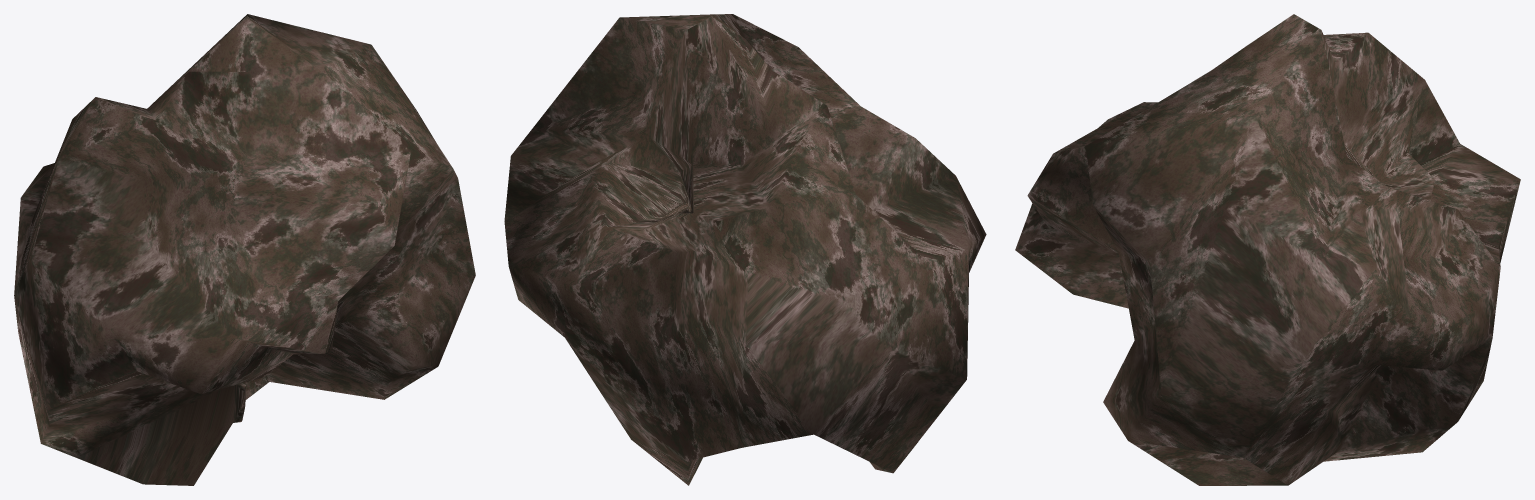
The model's file is asteroid2.obj.
The picture shows the model from 3 angles, left to right: view 1: azimuth 30°, elevation 25°; view 2: azimuth 150°, elevation 25°; view 3: azimuth 270°, elevation 25°; orthographic projection. The views are drawn at different scales.
Parts seen in each view (by area): view 1: asteroid_2; view 2: asteroid_2; view 3: asteroid_2.
Boxes of the visible parts, bbox=[...] form: asteroid_2: bbox=[14, 14, 475, 485]; asteroid_2: bbox=[504, 14, 986, 485]; asteroid_2: bbox=[1015, 14, 1520, 485].
Bounding box in the file's own units: 1.64 × 1.62 × 1.62.
Materials: 1 (1 with a texture image).
